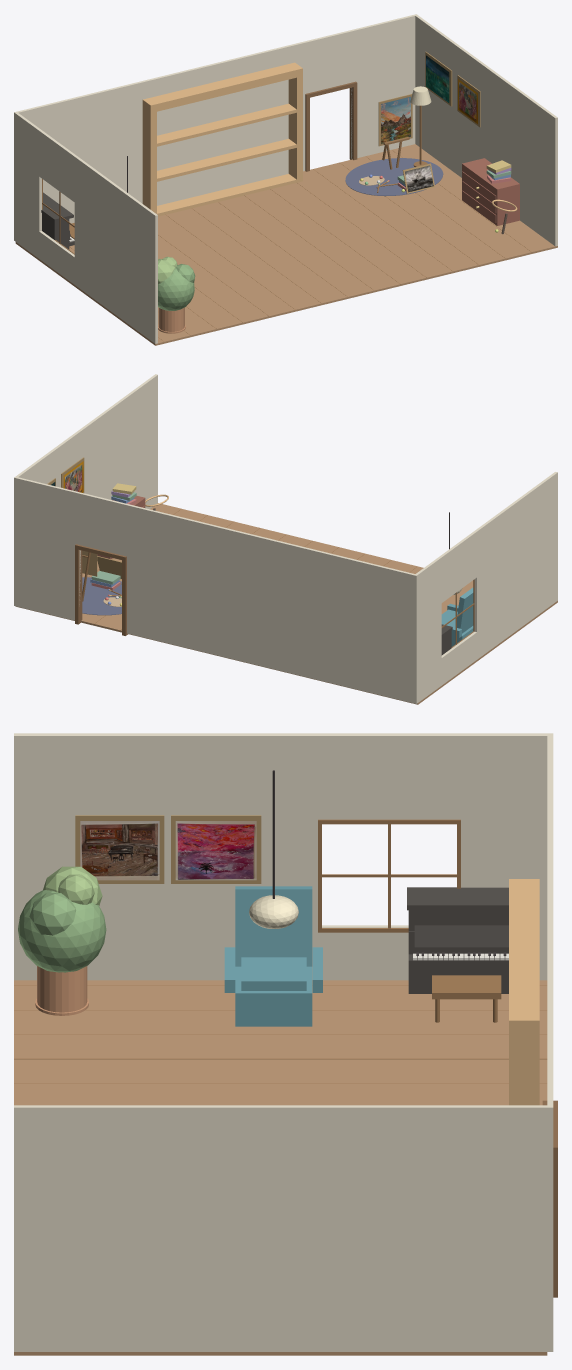
Rendered from bookshelf.glb.
The picture shows the model from 3 angles, top to bottom: view 1: azimuth 30°, elevation 25°; view 2: azimuth 150°, elevation 25°; view 3: azimuth 270°, elevation 25°; orthographic projection. The views are drawn at different scales.
Visible parts, largest first — view 1: Room; view 2: Room; view 3: Room.
Boxes of the visible parts, <box> form: Room: <box>14,14,557,345</box>; Room: <box>14,374,557,704</box>; Room: <box>14,733,557,1355</box>.
Bounding box in the file's own units: 46 × 14.2 × 28.25.
43 materials, 6 textured.
